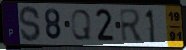1: (144, 9, 157, 44)
2: (94, 8, 116, 43)
8: (44, 8, 63, 41)
Q: (70, 8, 93, 42)
R: (118, 8, 145, 44)
S: (18, 5, 42, 43)
